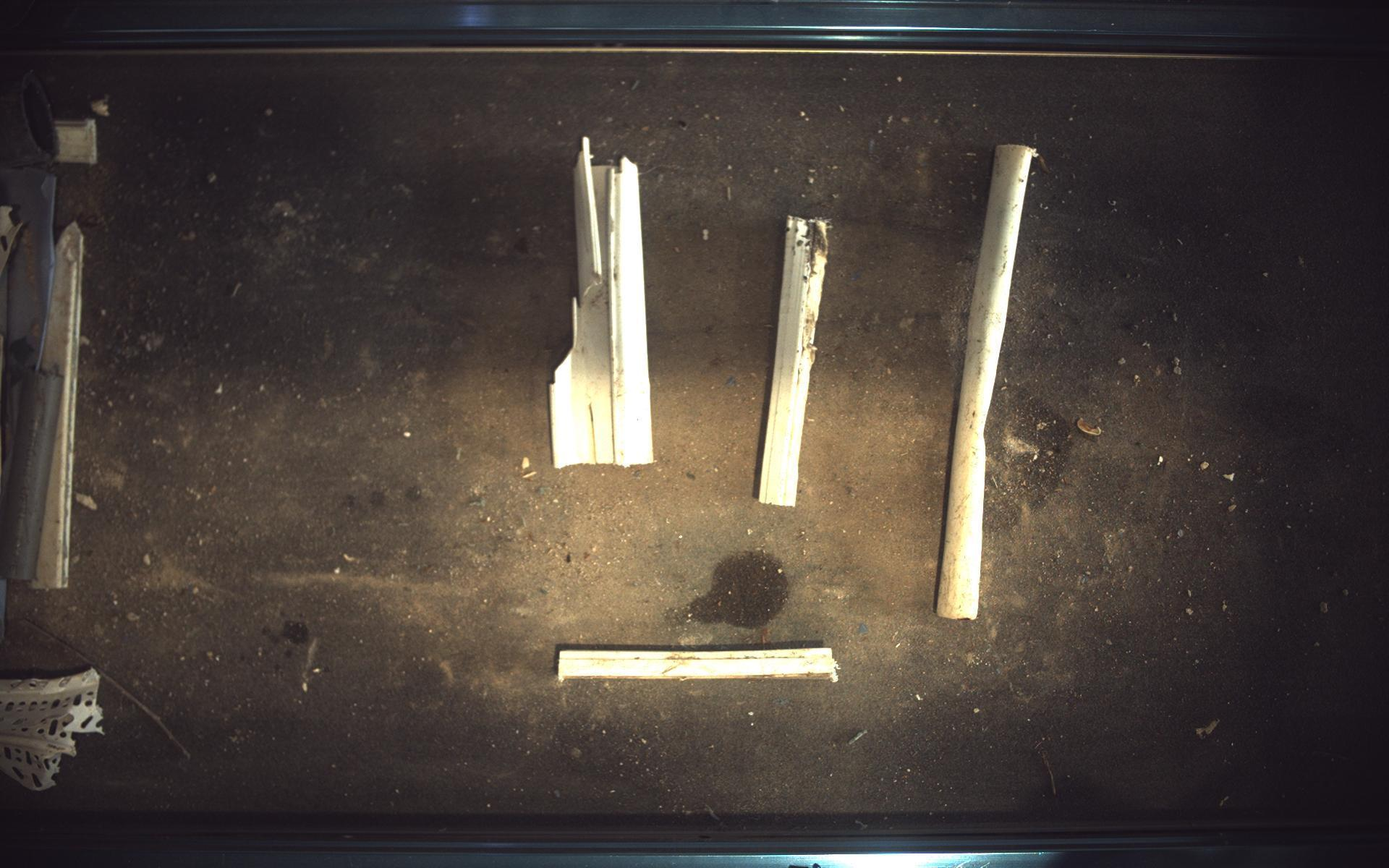pipes: (938, 144, 1040, 620)
plastic: (551, 137, 655, 468), (760, 215, 830, 507), (557, 643, 839, 683)
